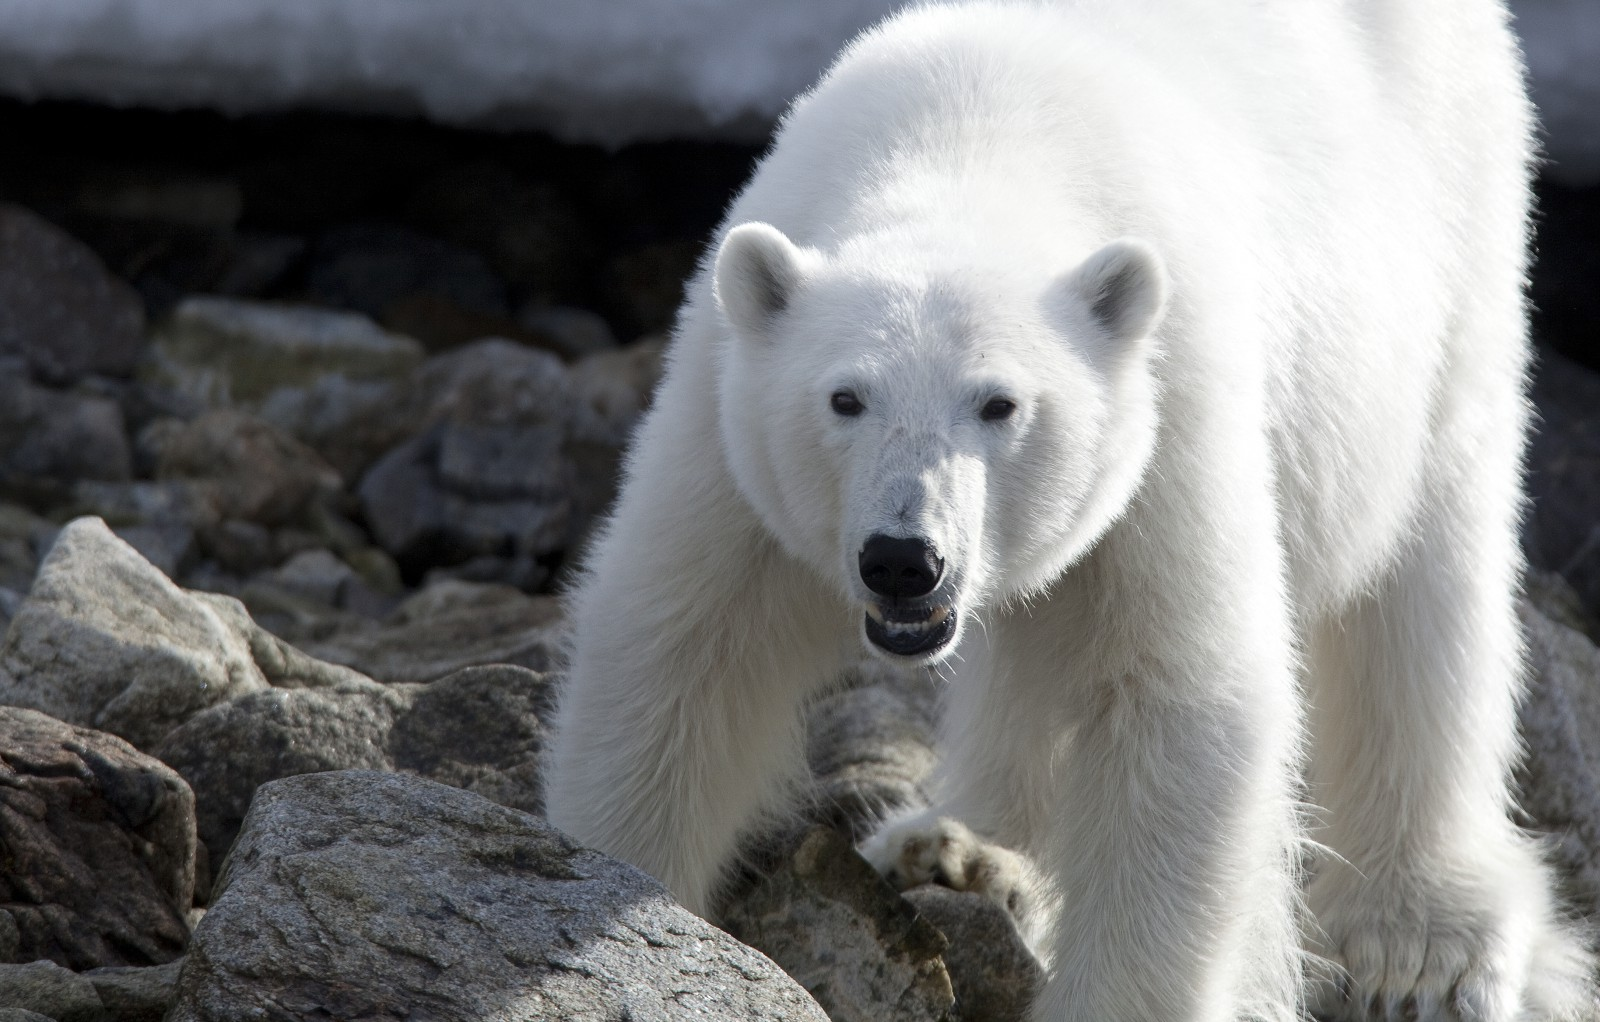Polar Bear: (489, 16, 1600, 1006)
